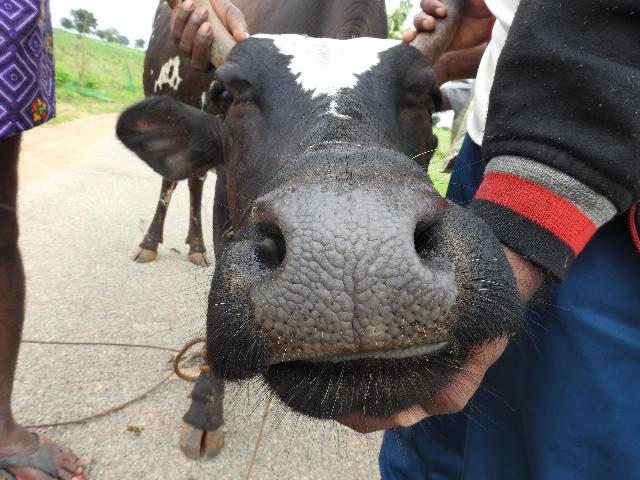Muzzle: (240, 190, 456, 356)
